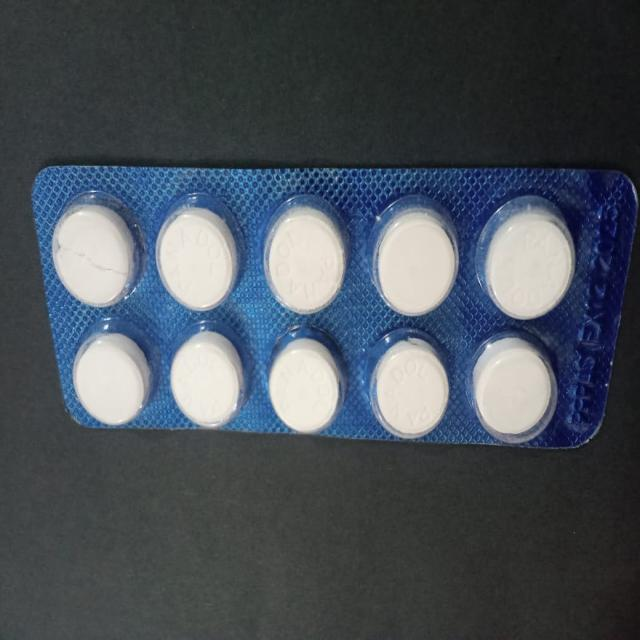defect: (51, 193, 143, 311)
